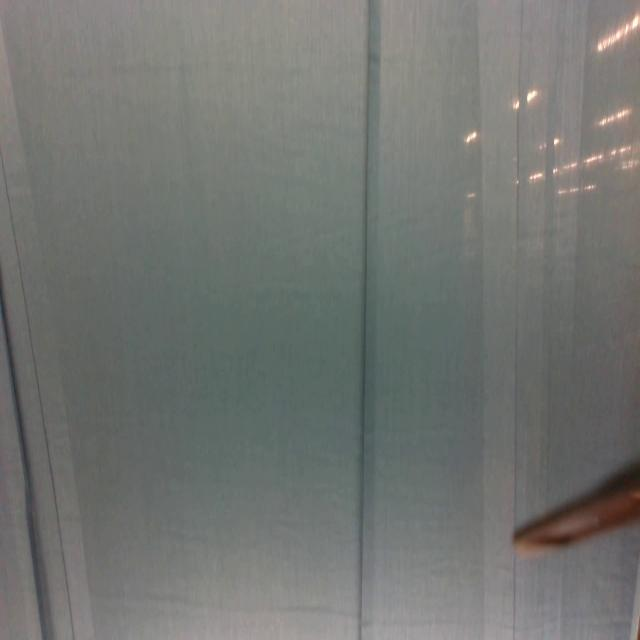crease: (0, 143, 77, 640), (356, 0, 374, 639), (510, 0, 526, 640)
